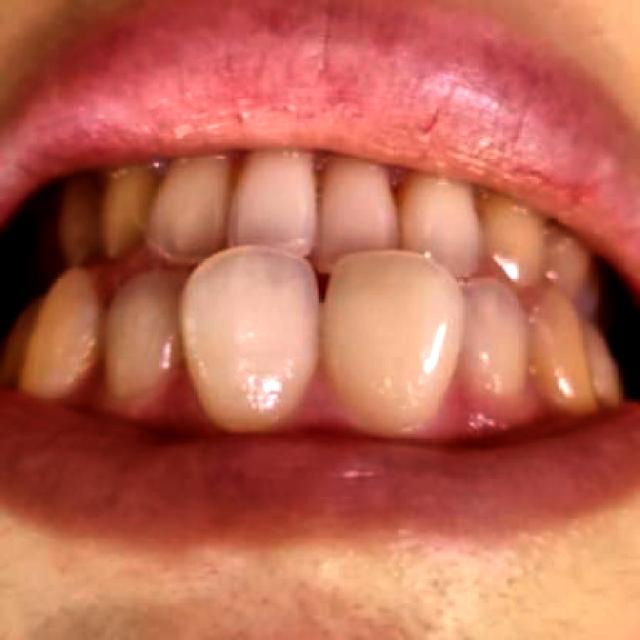Plaque: (293, 364, 354, 423), (438, 366, 491, 418), (147, 362, 202, 405), (521, 366, 557, 404), (75, 355, 109, 392)
